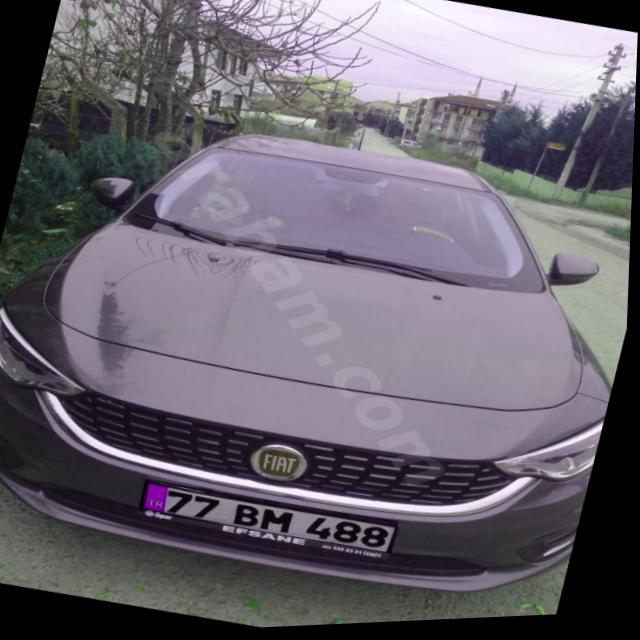license_plate: (140, 471, 404, 567)
